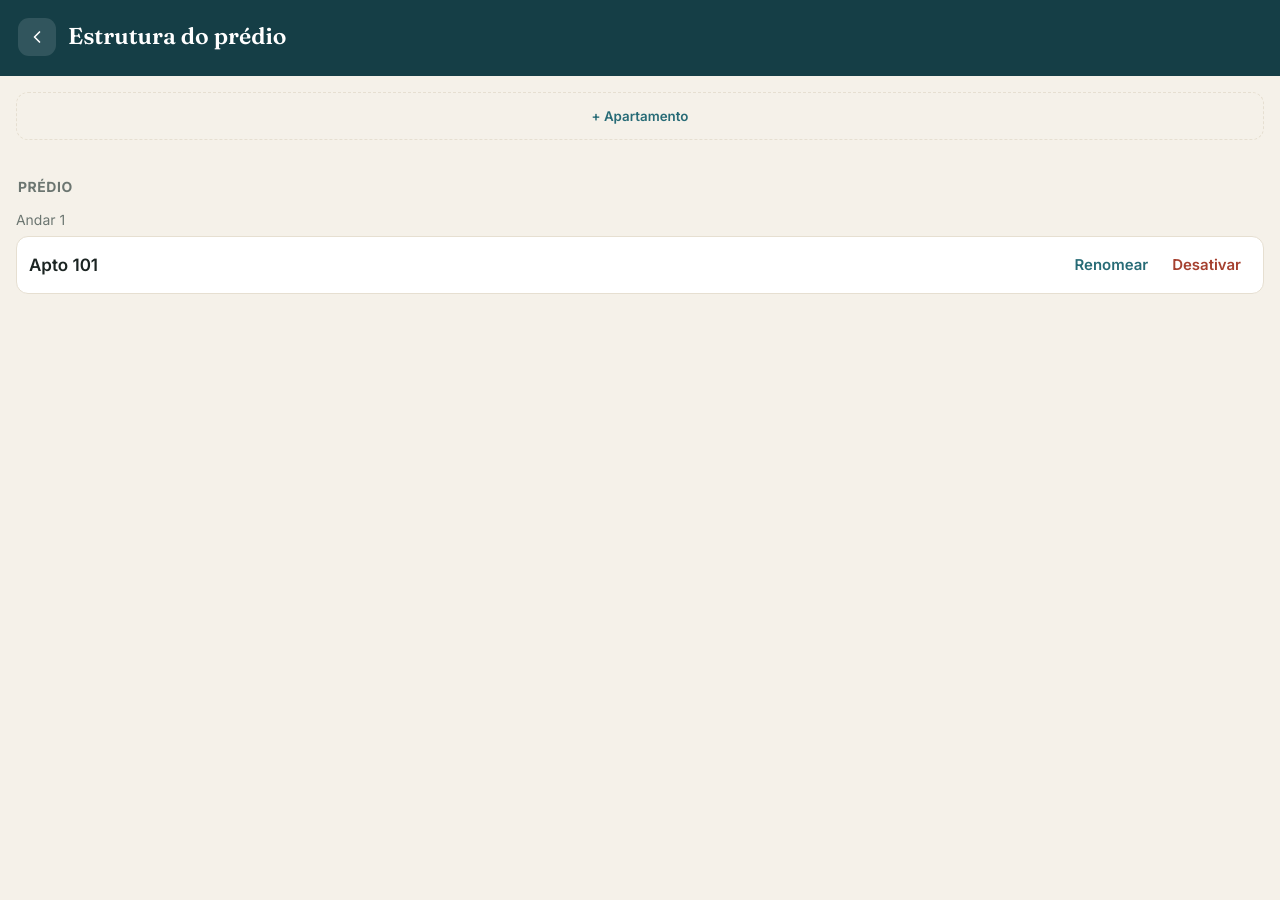
Scenario: BuildingStructureScreen › deactivates a vacant apartment
Click the button with aria-label "Desativar Apto 101" at (1207, 265), box [1162,245,1251,285]
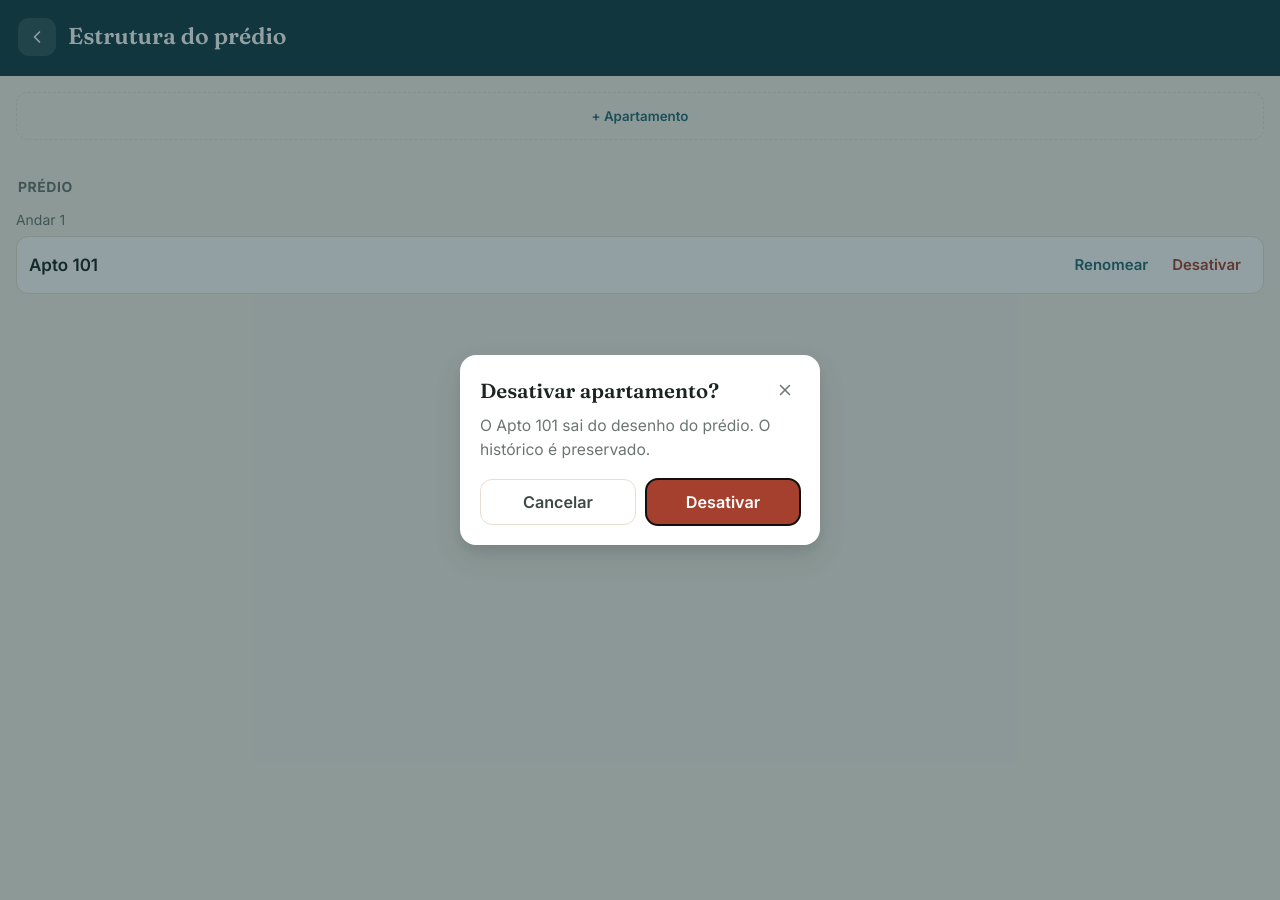
Click the button "Desativar" at (723, 502), box [646,479,800,525]
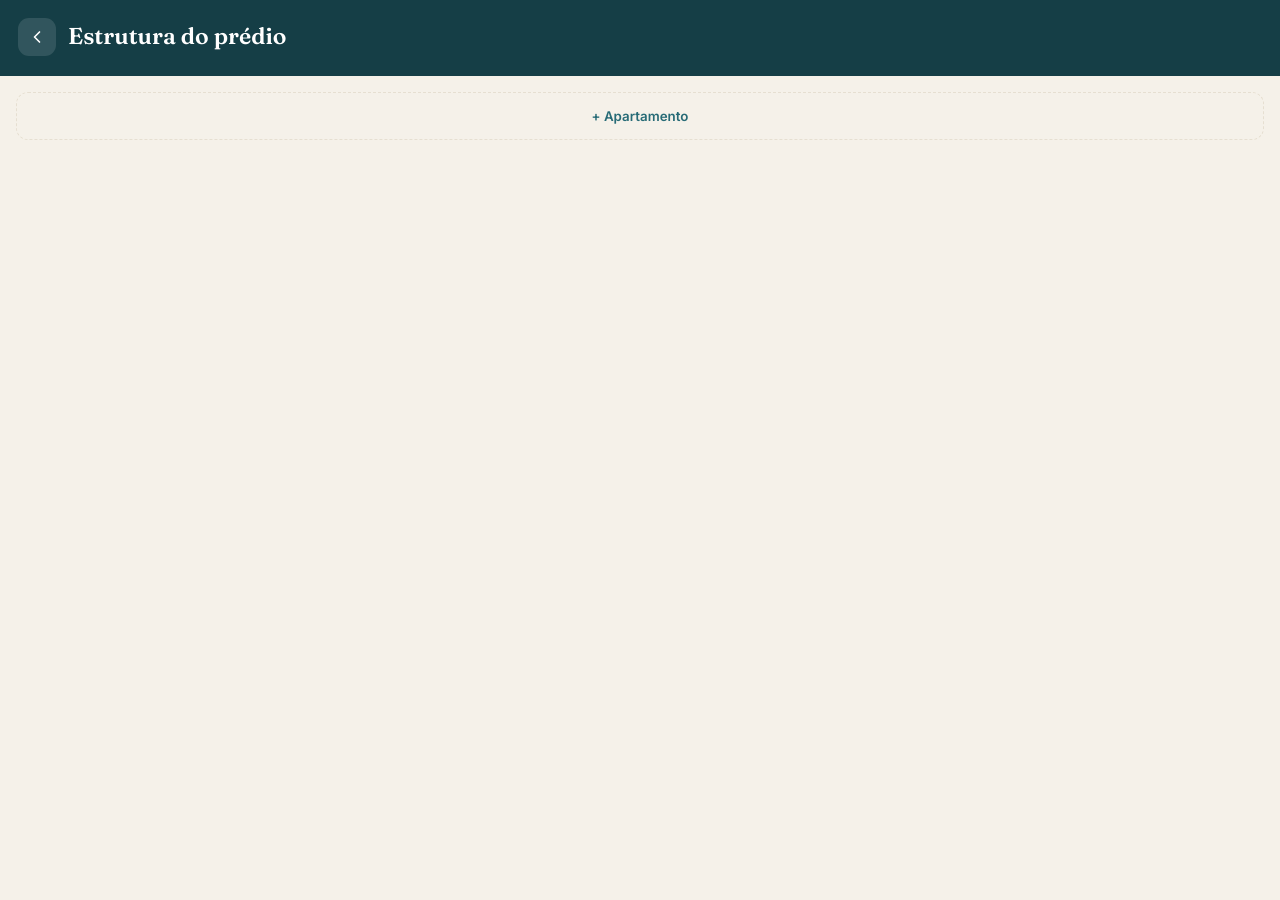
Result: the text "Apto 101" is gone
